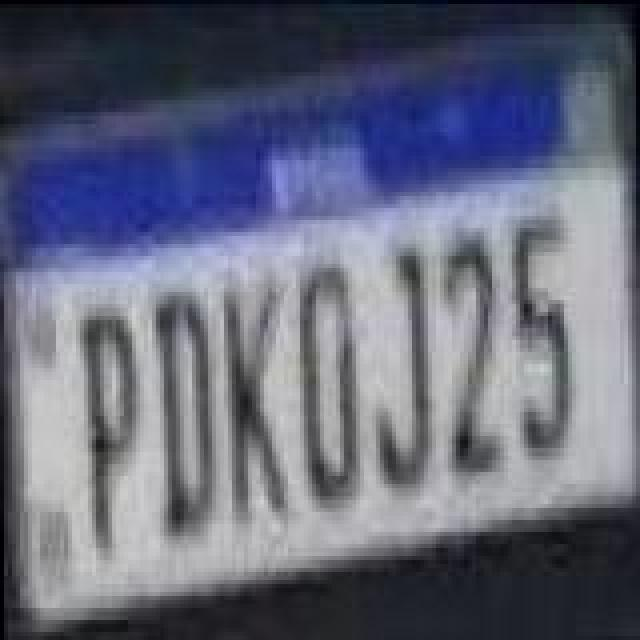2: (438, 230, 506, 482)
5: (512, 198, 576, 466)
D: (150, 284, 222, 540), (294, 254, 366, 510)
J: (370, 232, 430, 488)
K: (222, 270, 294, 538)
P: (82, 304, 146, 560)
